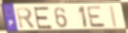1: (77, 6, 88, 29)
6: (54, 7, 69, 29)
E: (33, 6, 54, 30), (86, 5, 107, 28)
I: (108, 5, 119, 29)
R: (15, 7, 37, 30)
